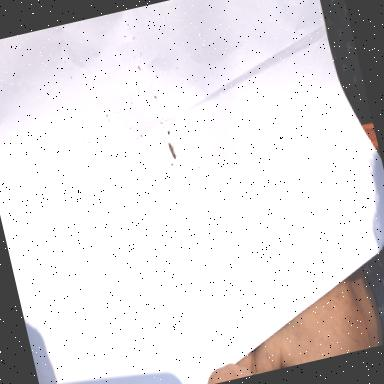pbw: (168, 140, 178, 160)
